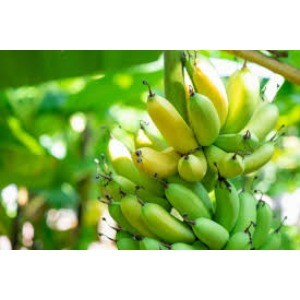banana_brain food: (105, 104, 284, 216)
